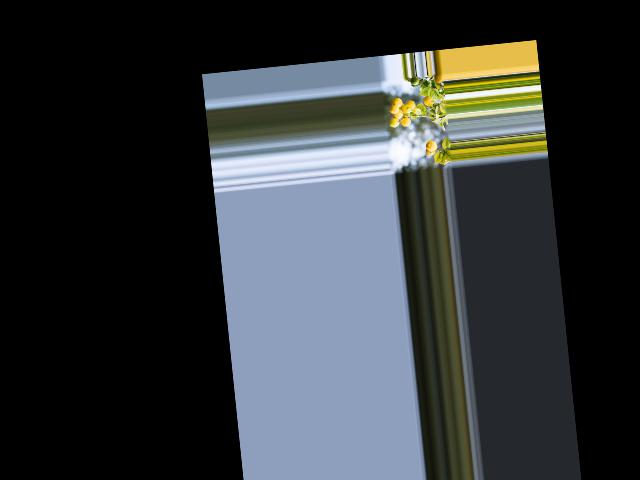lemon: (388, 97, 403, 109)
